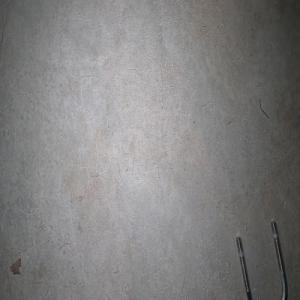ClampPart: (235, 219, 288, 300)
